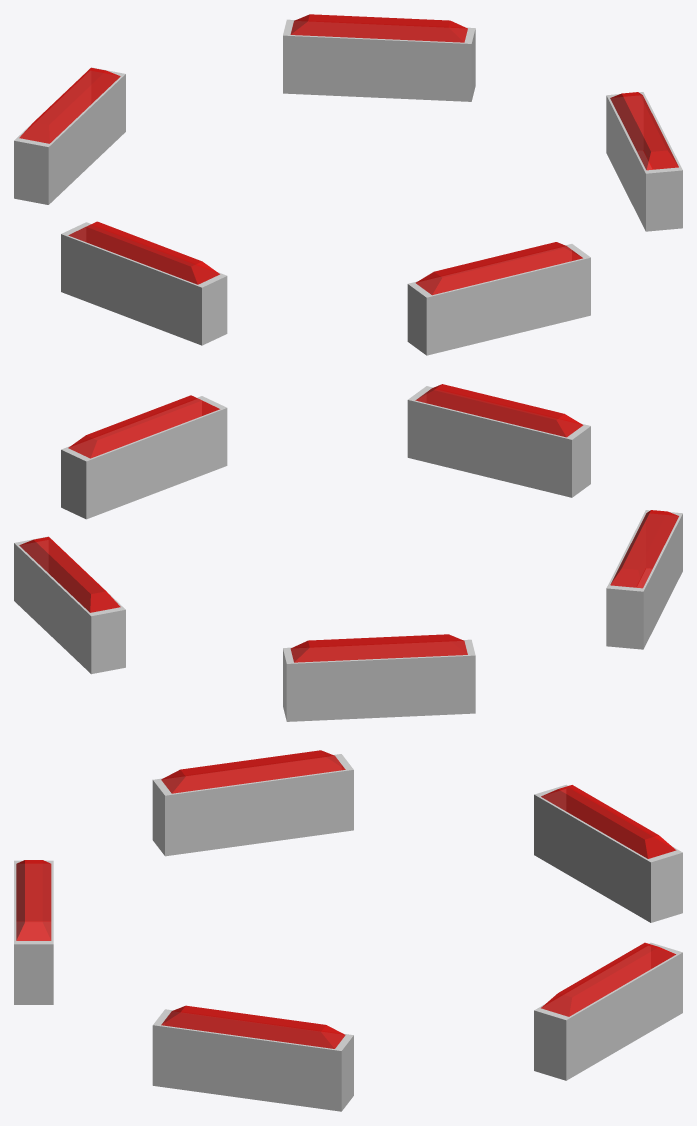
File: PieceArme.fbx
3 views of the same model, one above another, from view 1: azimuth 30°, elevation 25°; view 2: azimuth 150°, elevation 25°; view 3: azimuth 270°, elevation 25° (orthographic). The views are drawn at different scales.
Parts seen in each view (by area): view 1: TypePiece5, TypePiece2, TypePiece3, TypePiece4, TypePiece1; view 2: TypePiece4, TypePiece2, TypePiece1, TypePiece5, TypePiece3; view 3: TypePiece1, TypePiece3, TypePiece4, TypePiece5, TypePiece2.
Boxes of the visible parts, box(x1,y1,x2,y2) form: TypePiece5: box(283, 14, 475, 101); TypePiece2: box(407, 242, 590, 355); TypePiece3: box(61, 221, 227, 345); TypePiece4: box(14, 67, 125, 204); TypePiece1: box(606, 92, 682, 231); TypePiece4: box(283, 634, 475, 721); TypePiece2: box(407, 384, 590, 497); TypePiece1: box(61, 395, 227, 519); TypePiece5: box(14, 536, 125, 674); TypePiece3: box(606, 510, 682, 649); TypePiece1: box(152, 1005, 353, 1111); TypePiece3: box(152, 750, 353, 856); TypePiece4: box(534, 784, 682, 922); TypePiece5: box(534, 942, 682, 1080); TypePiece2: box(14, 860, 53, 1004).
Bounding box in the file's own units: 1.77 × 1.68 × 0.2.
